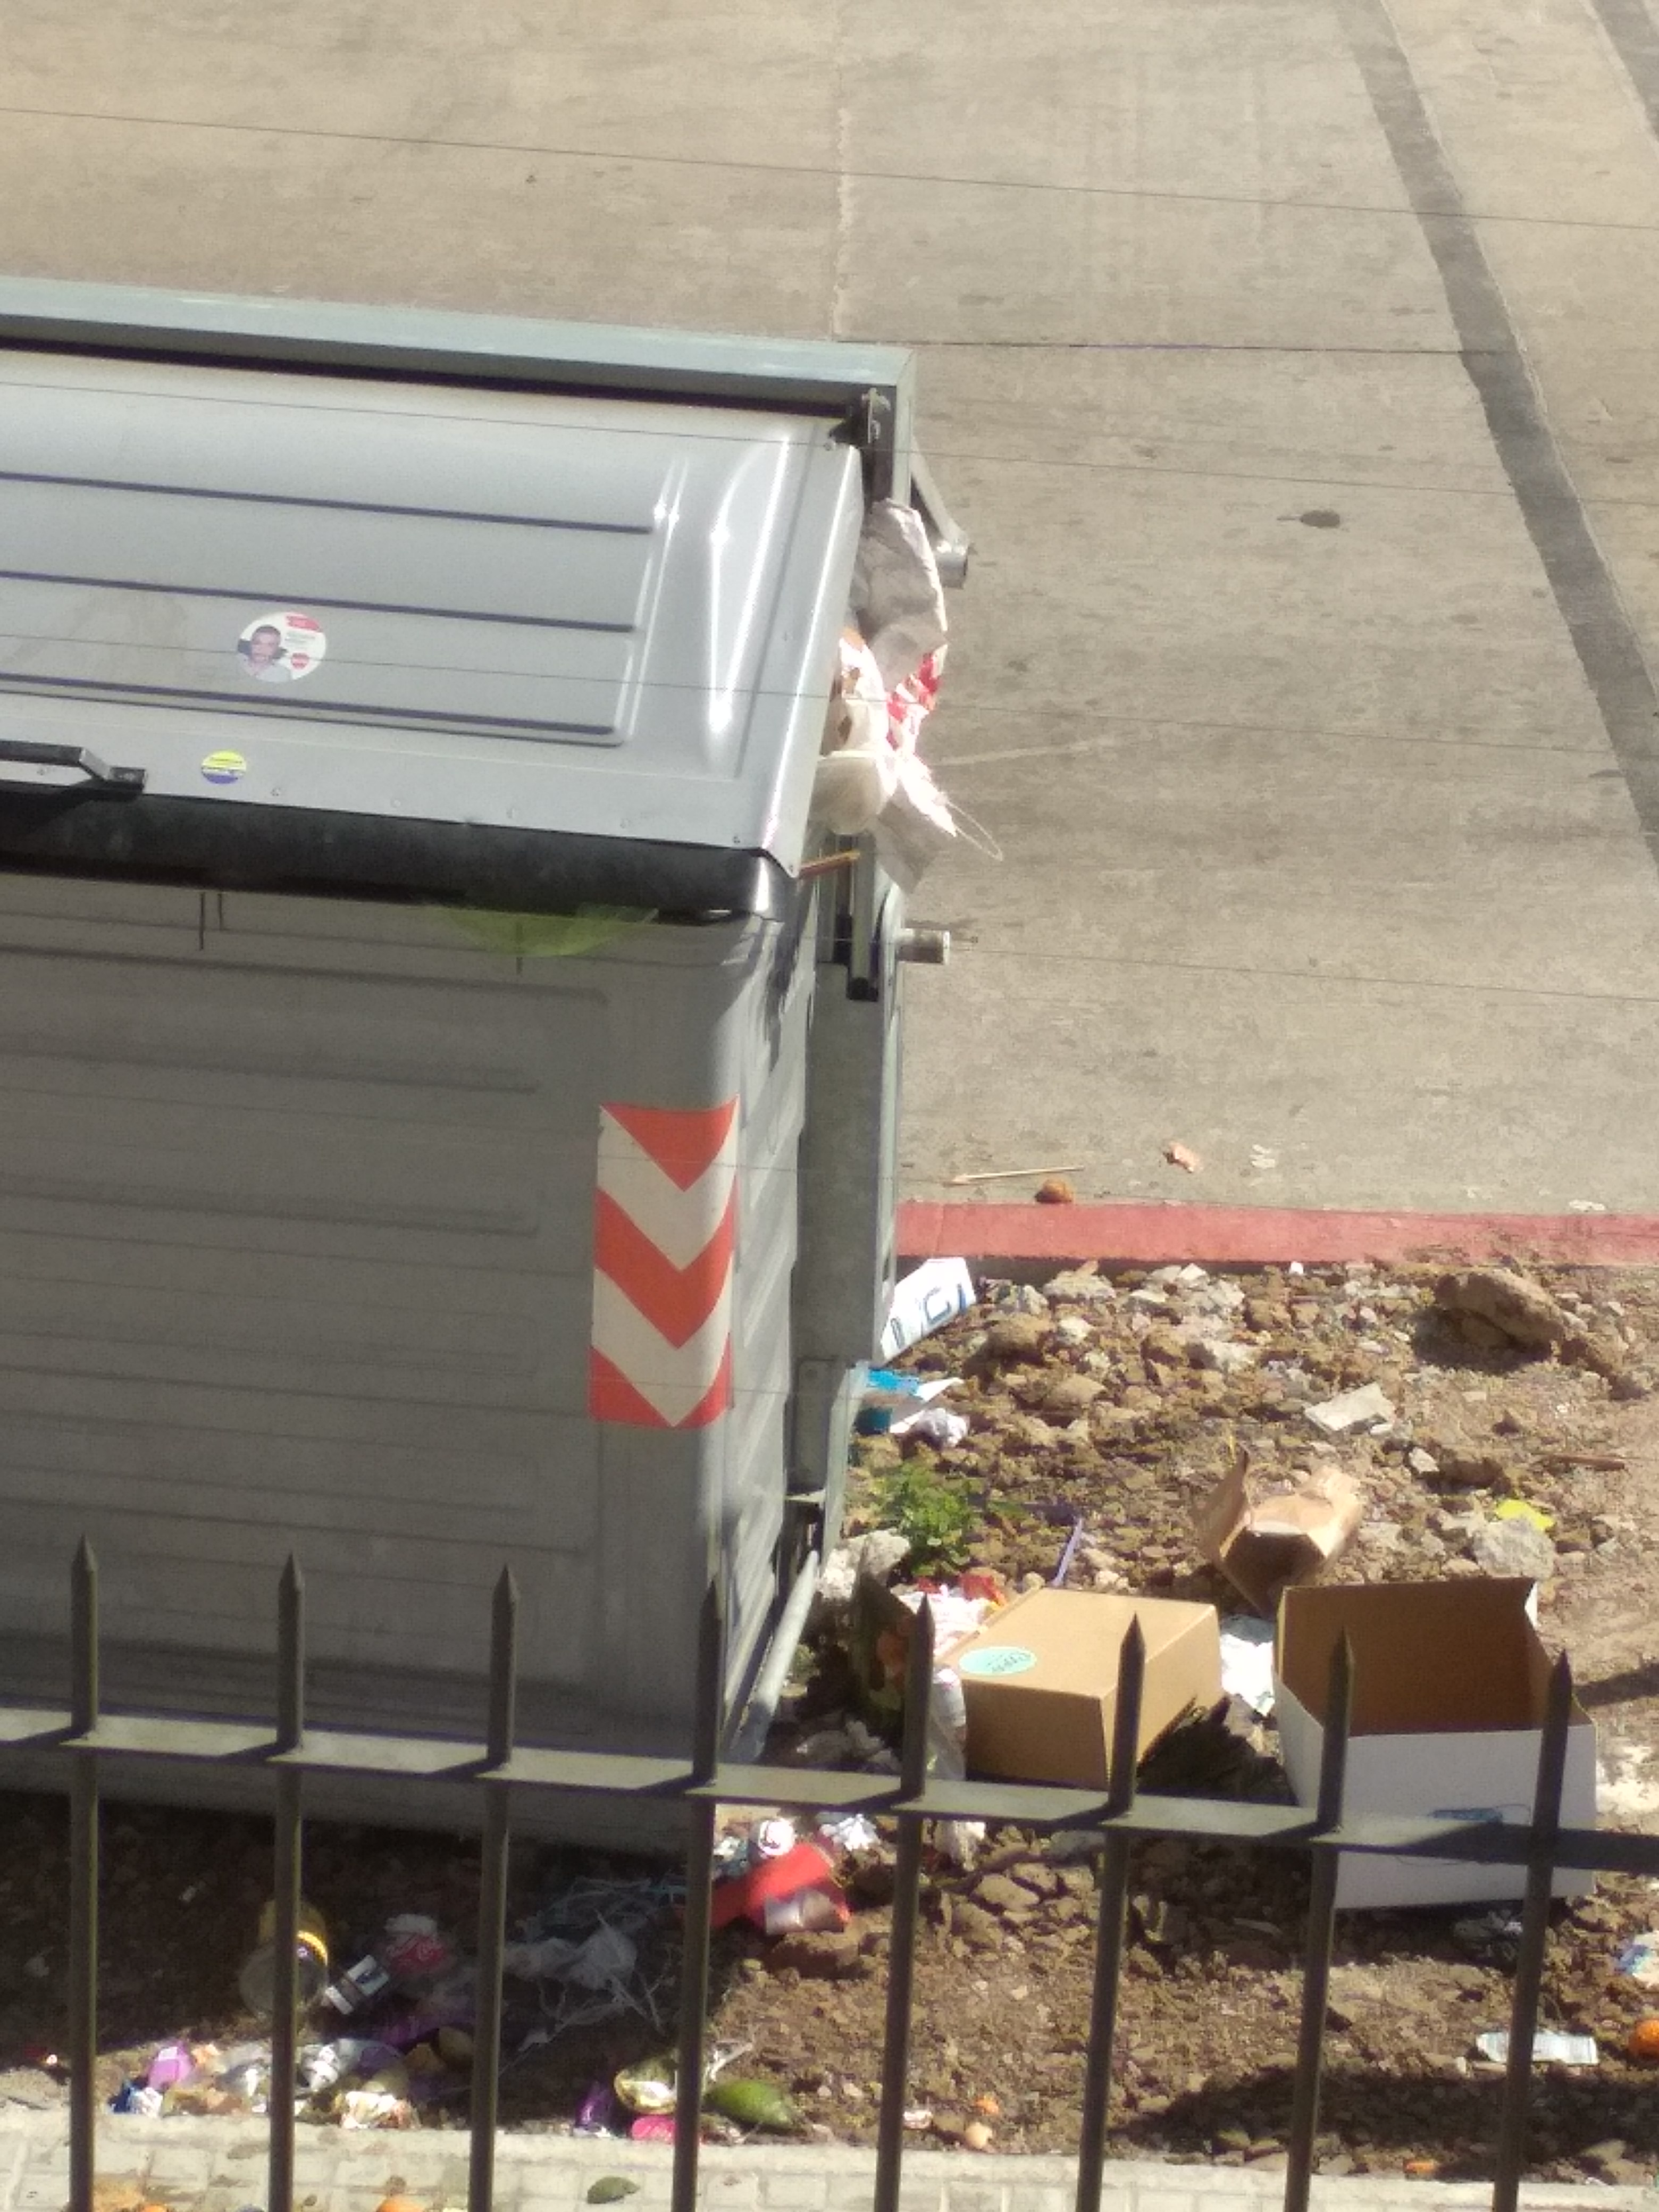container: (0, 319, 992, 1862)
